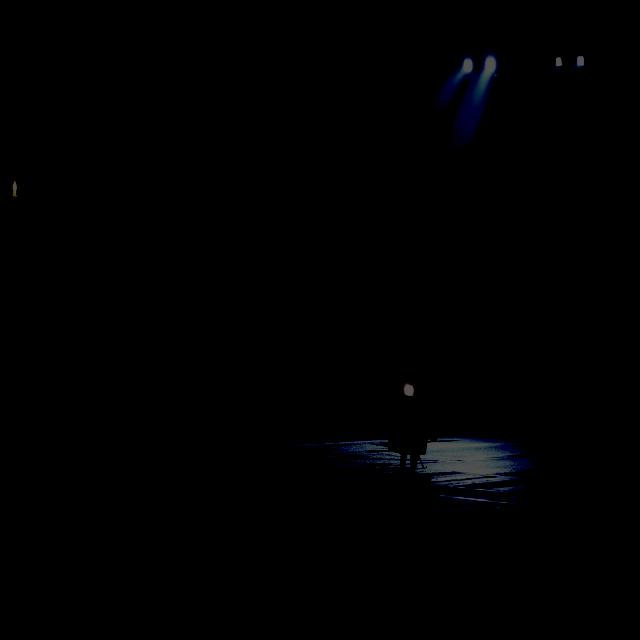Motorbike: (377, 334, 455, 530)
